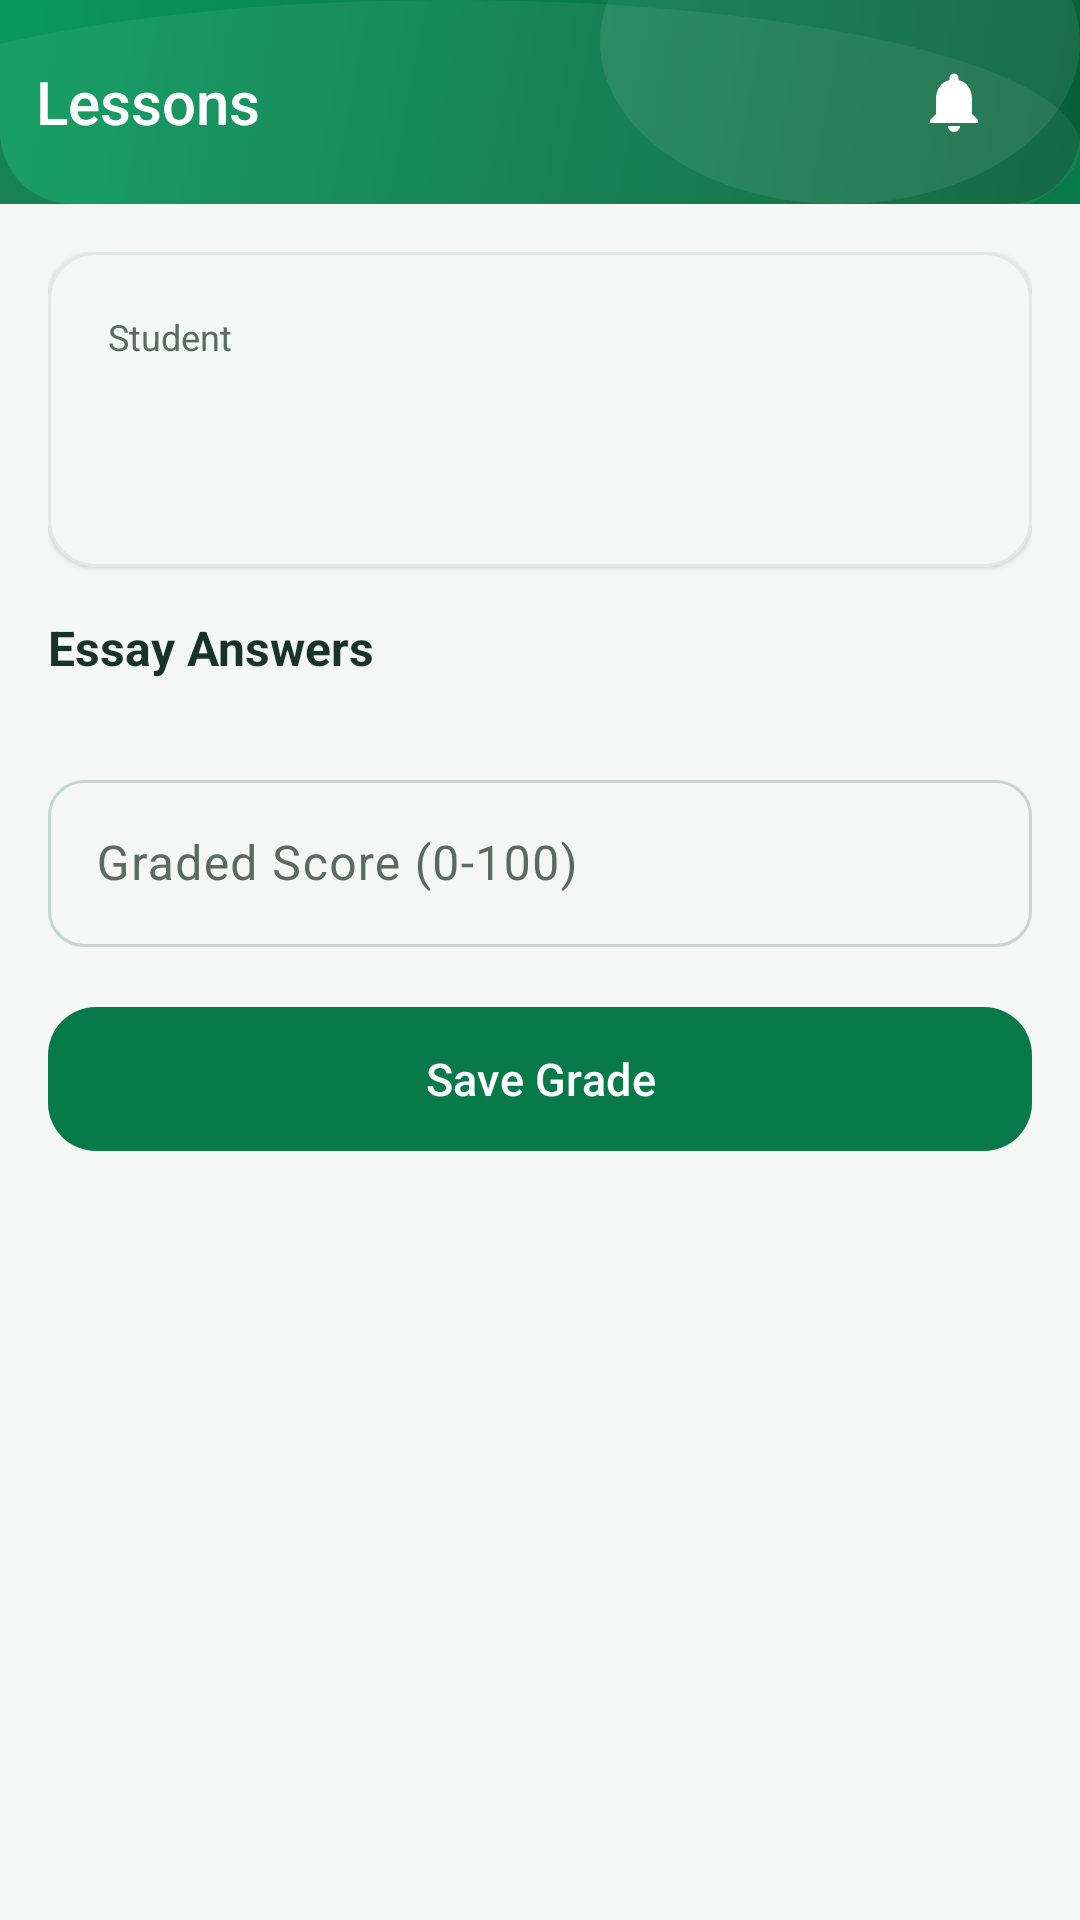

Named icons in this screenshot (1080×1920) and their centers, point (x, y):
Notifications: point (954, 102)
